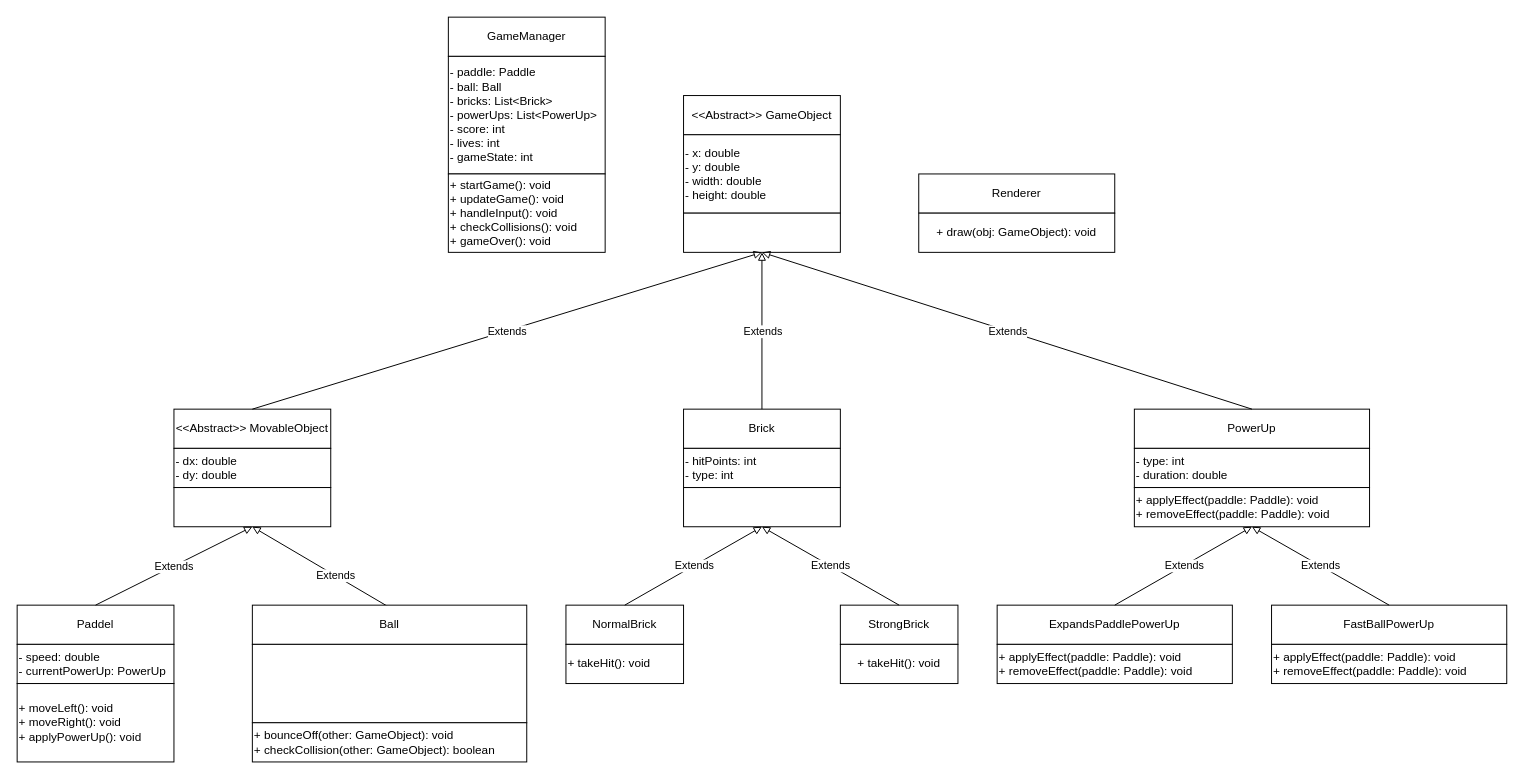
Some shapes in this 1524 by 779 pixel diagram are drawn without their labels. The centre of each missing label's shape, as x and y in pixels:
+ move(): void: (x=252, y=507)
+ takeHit(): void + isDestroyed(): boolean: (x=761, y=507)
+ update(): void + render(): void: (x=761, y=232)
- speed: double - directionX: int - directionY: int: (x=389, y=683)
